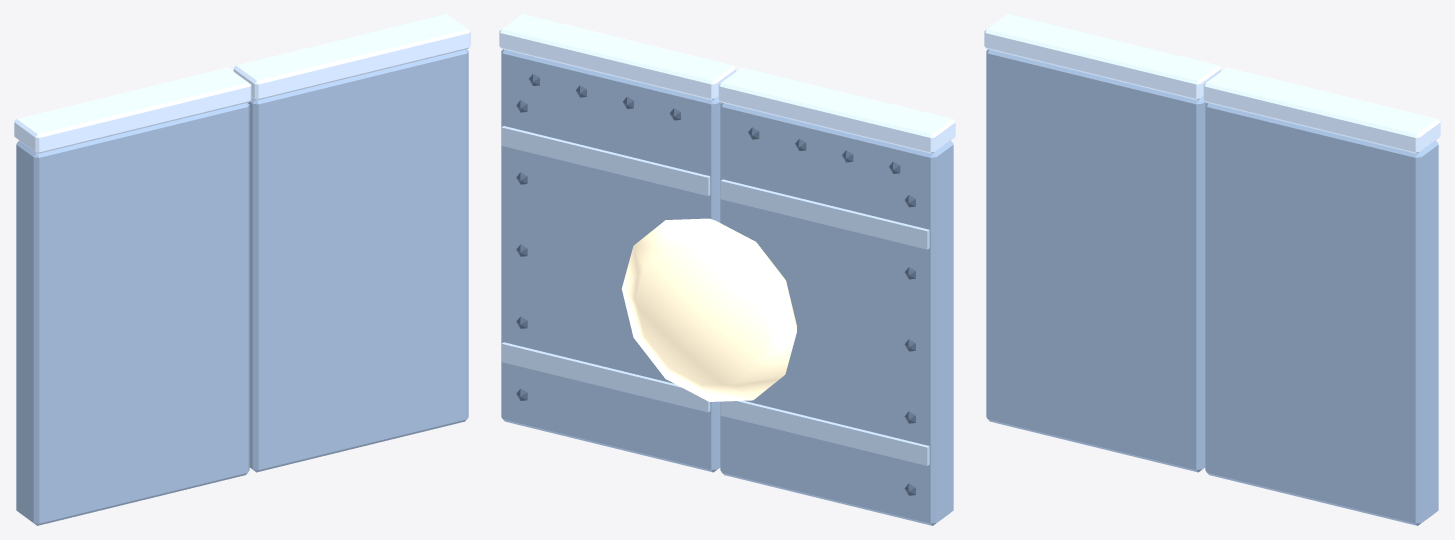
File: iron-door.glb
3 views of the same model, side by side, from view 1: azimuth 30°, elevation 25°; view 2: azimuth 150°, elevation 25°; view 3: azimuth 330°, elevation 25° (orthographic).
Parts seen in each view (by area): view 1: iron-door; view 2: iron-door; view 3: iron-door.
Boxes of the visible parts, left/top/right/bottom form: iron-door: left=14, top=14, right=470, bottom=525; iron-door: left=499, top=14, right=955, bottom=525; iron-door: left=984, top=14, right=1440, bottom=525.
Size of the model in its own units: 6.95 by 6 by 1.12.
